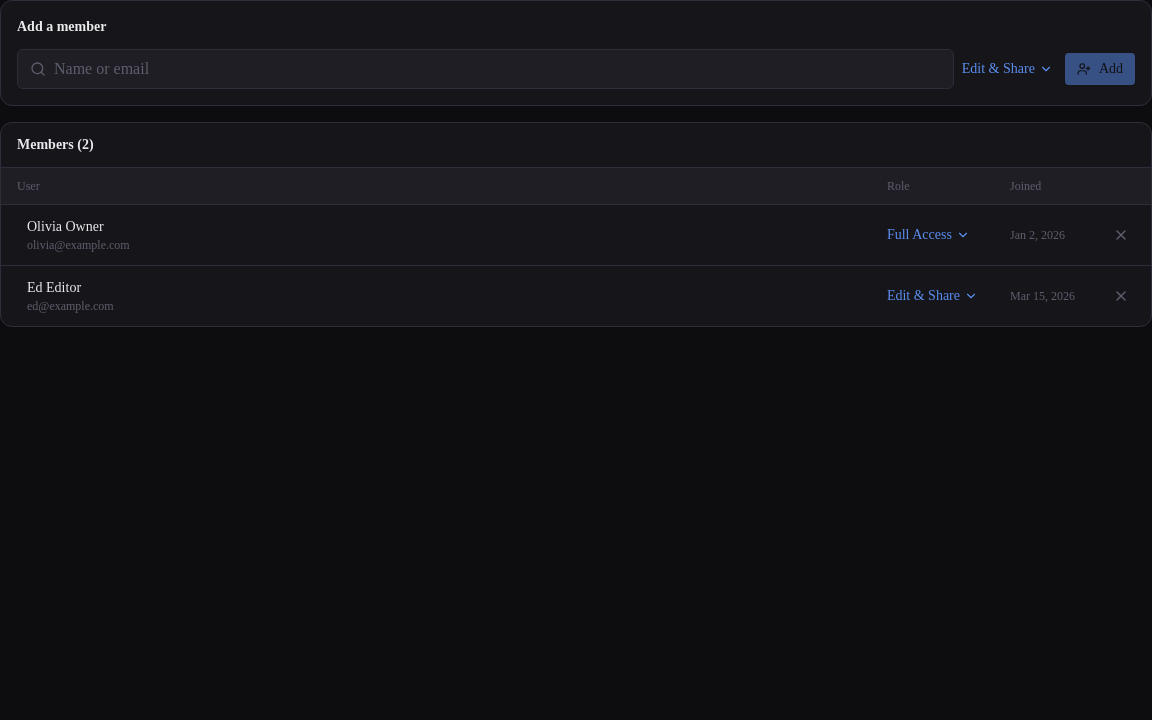
removing a member › keeps the dialog open with the reason when it fails
Expected: the heading "Members (2)" is shown, [1,123,1151,168]
Step 1. Click the button named "Remove Ed Editor" → (1121, 296), box [1107,282,1135,310]
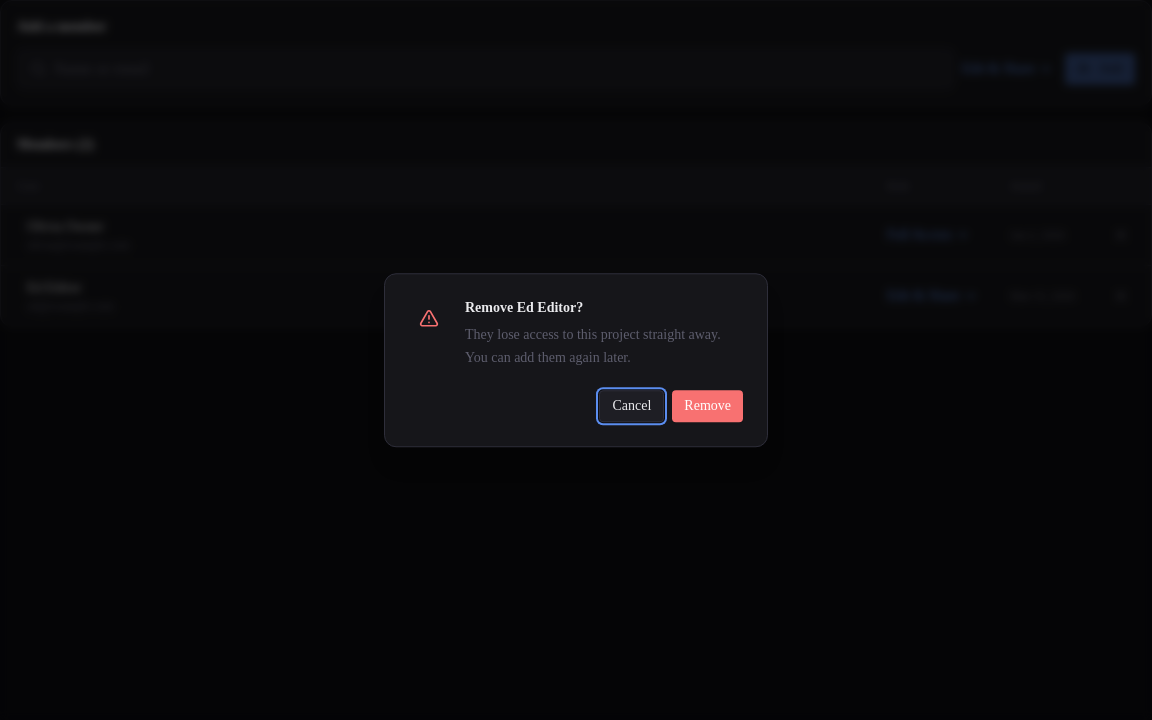
Step 2. Click the button "Remove" → (708, 406), box [672,390,743,422]
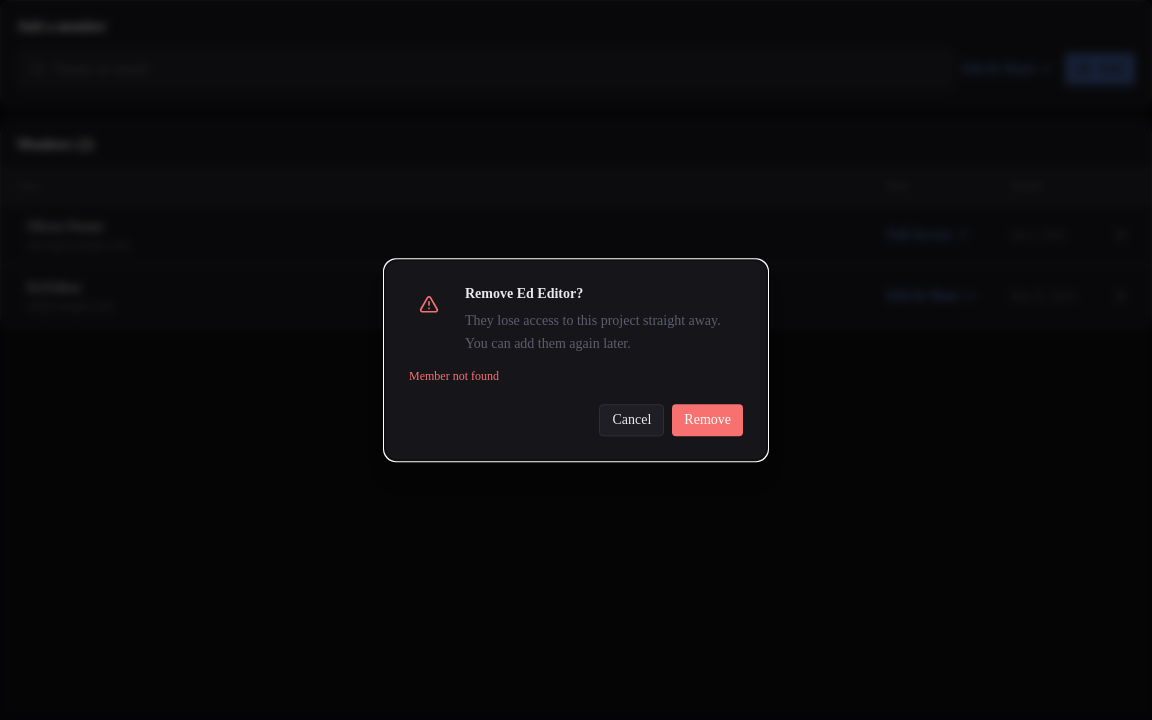
Result: the text "Member not found" is shown at [409,369,499,383]
